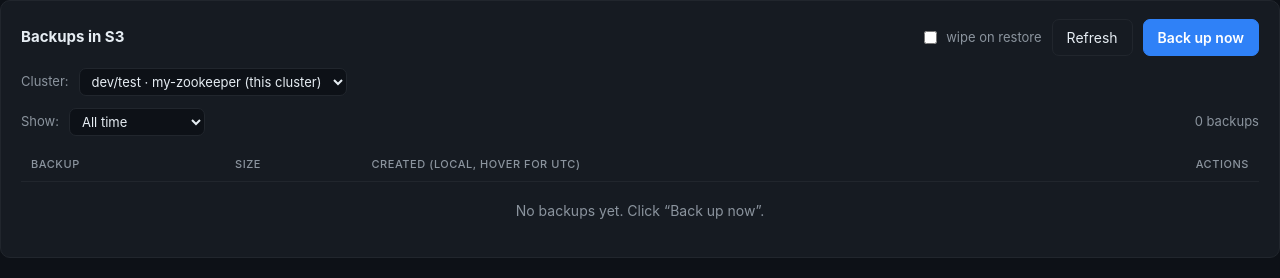
Test: BackupsCard › reveals custom range inputs only for the custom preset
The image size is (1280, 278).
Select "Custom range…" in the dropdown titled "Filter backups" at (137, 122), box [69,108,205,136]
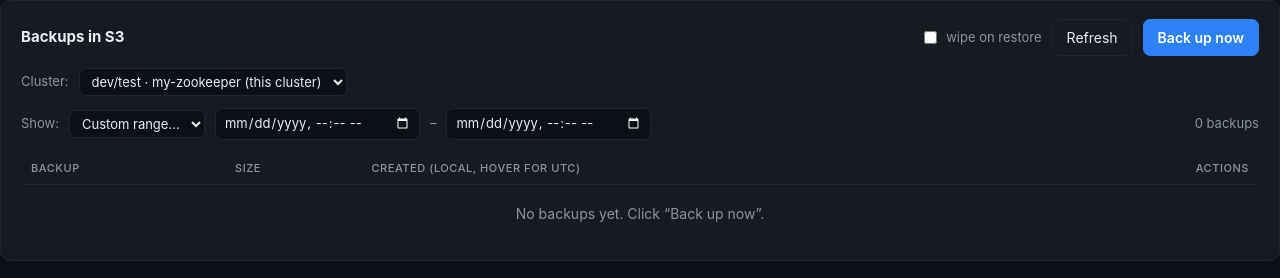
Result: the number of fields is 2 at [215,108,420,140]; [446,108,652,140]
